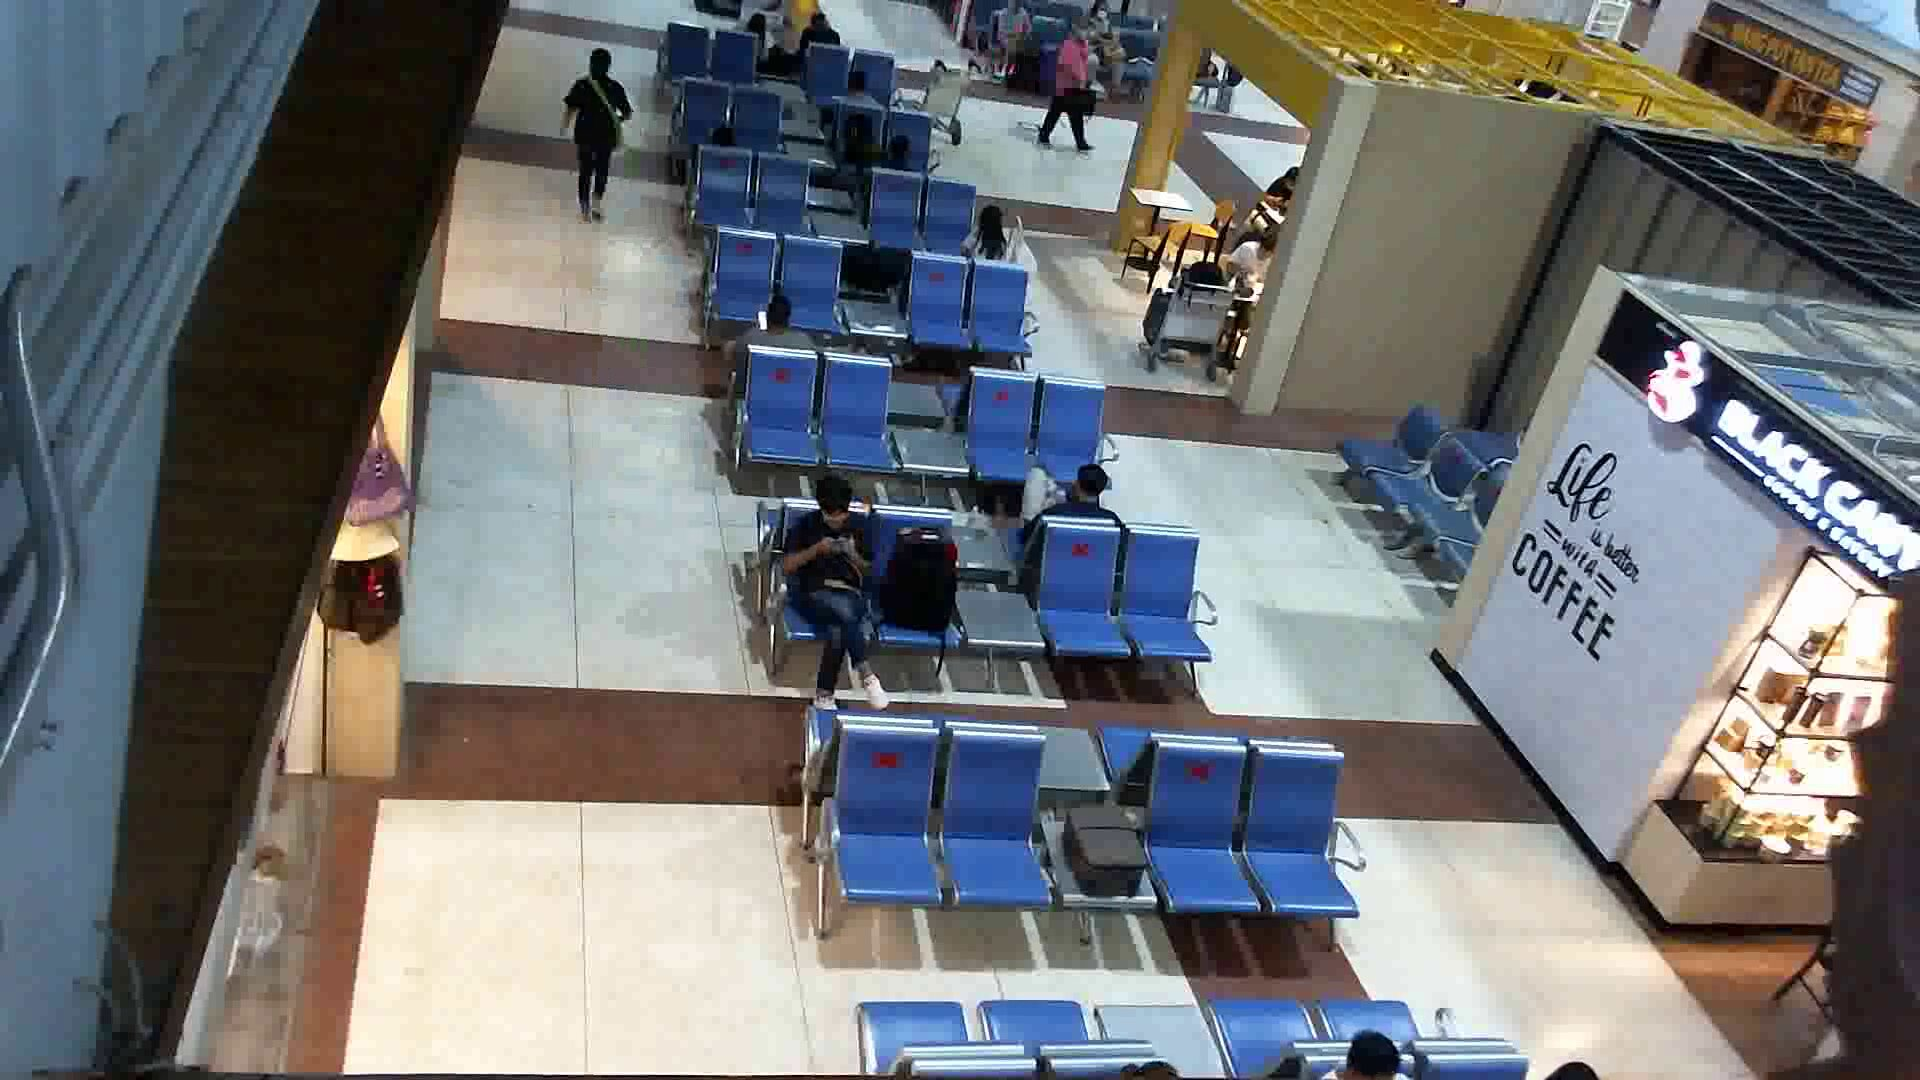luggage: (878, 515, 975, 646), (1052, 796, 1162, 907)
people: (777, 472, 897, 734), (541, 39, 654, 236), (1041, 23, 1107, 163), (1017, 463, 1125, 549)
